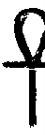Ankh: (3, 7, 45, 131)
